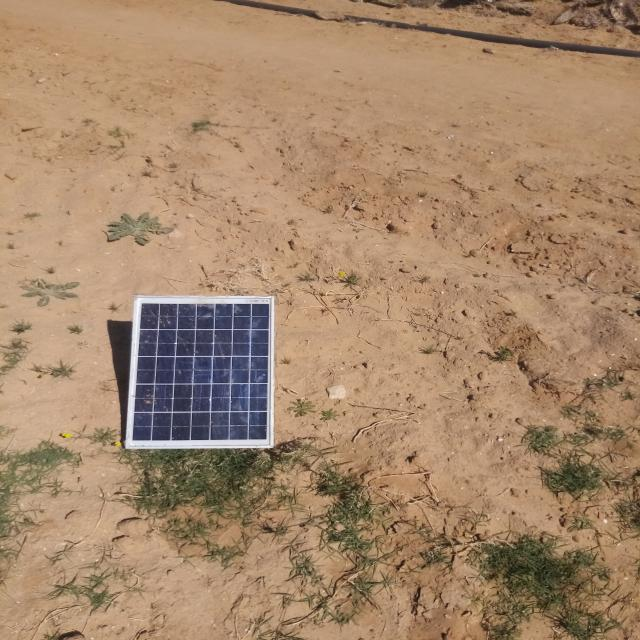faulty: (127, 297, 273, 447)
